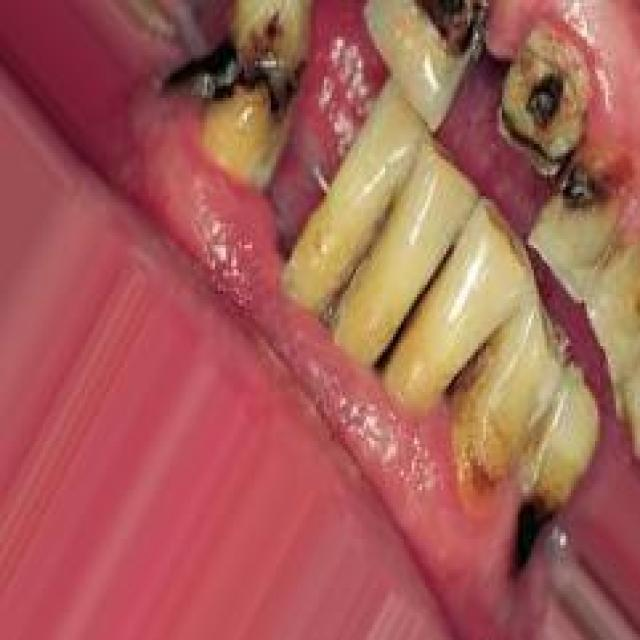caries: (491, 25, 596, 176), (209, 54, 306, 136), (552, 146, 632, 228), (396, 0, 490, 69), (511, 474, 566, 582), (245, 6, 296, 54)
